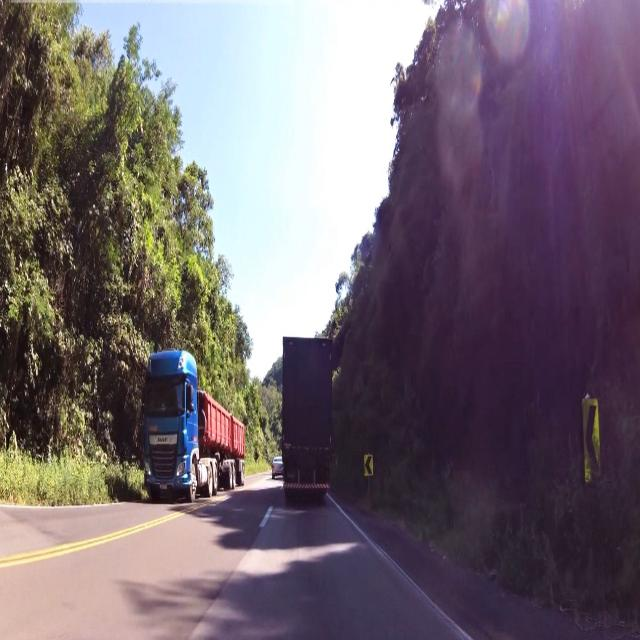Del: (583, 397, 604, 480), (364, 451, 374, 477)
